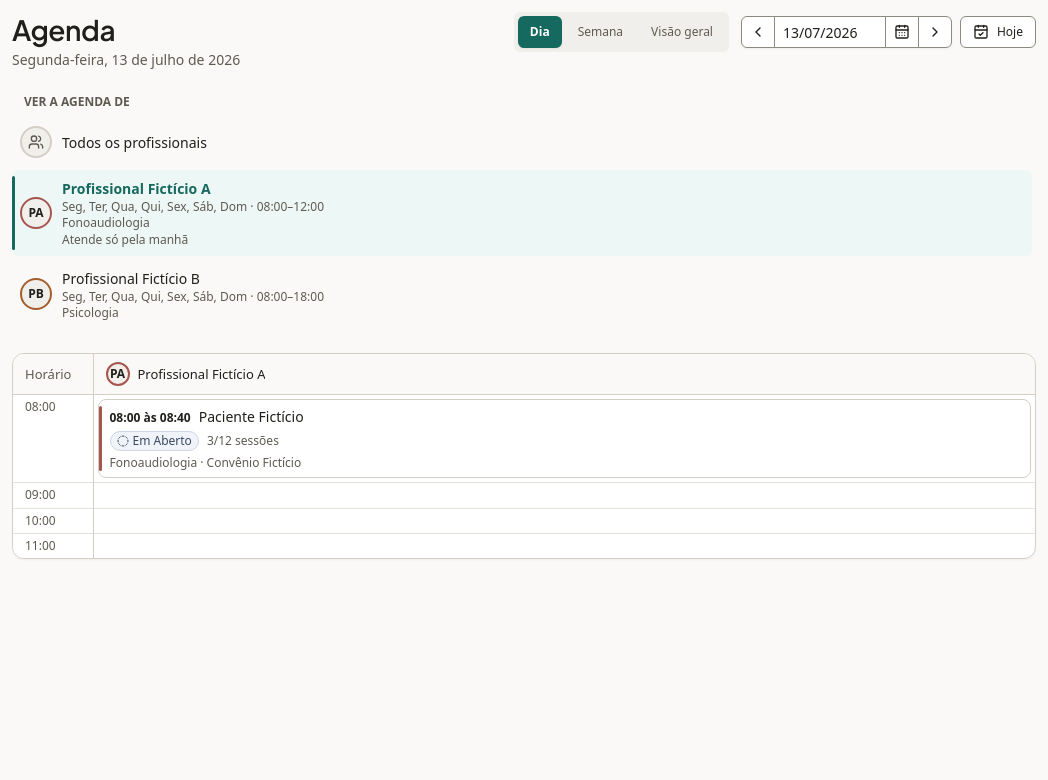
Scenario: Agenda — grade e visões › deve mostrar uma coluna por profissional na visão geral
Expected: the table is shown, [13,354,1035,558]
Click the button "Visão geral".
click(682, 32)  # box [639,16,725,48]
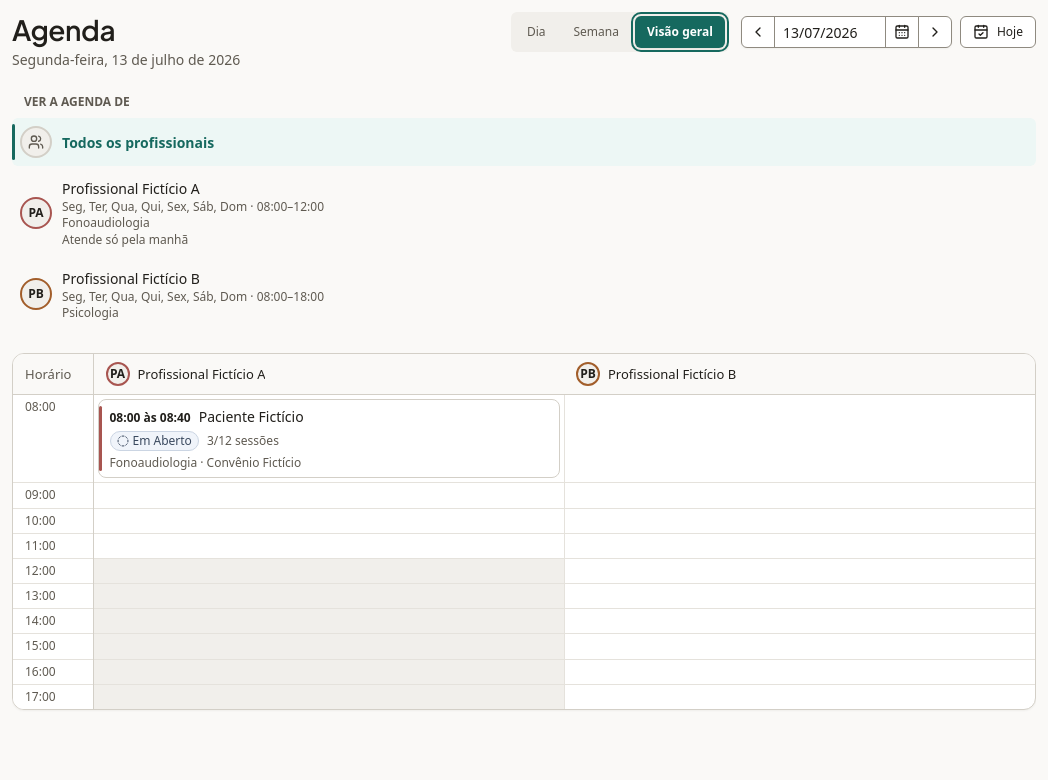
Expected: the column heading "PA Profissional Fictício A" is shown, [93,354,564,395]
Expected: the column heading "PB Profissional Fictício B" is shown, [564,354,1035,395]
